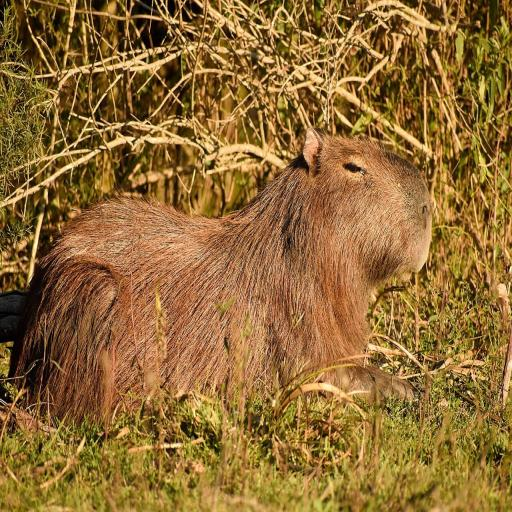capybara: (10, 130, 431, 420)
